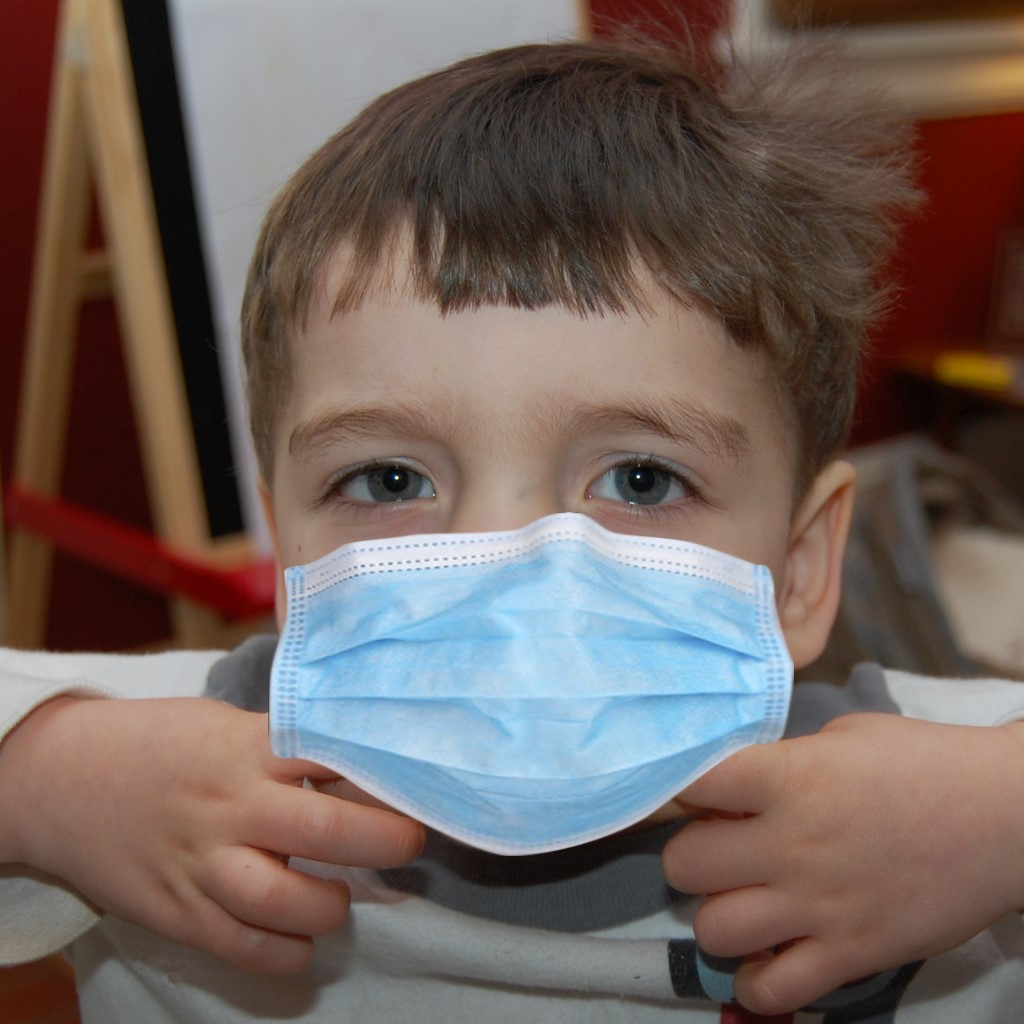con_mascara: (230, 200, 858, 831)
